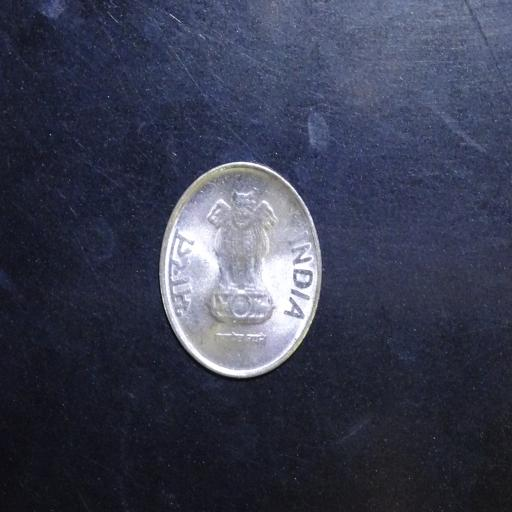rupee2: (157, 160, 322, 377)
